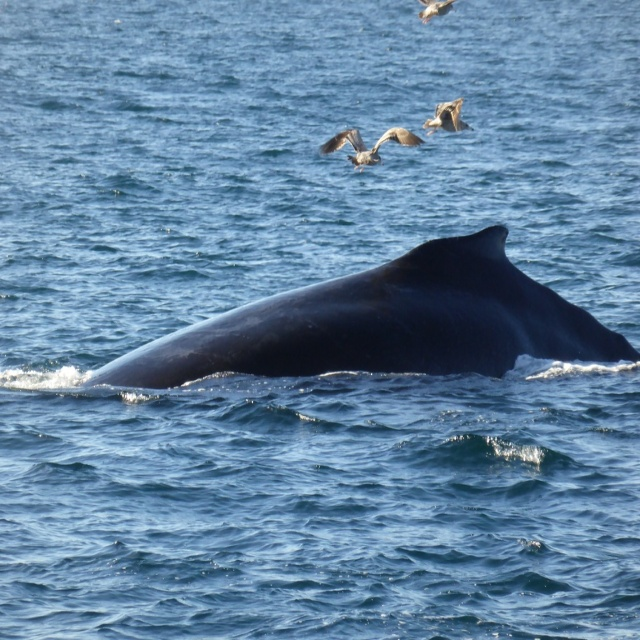Whale: (78, 225, 640, 389)
